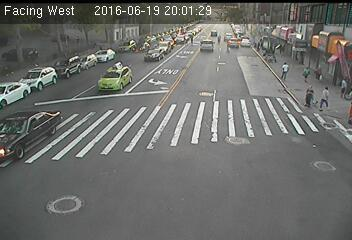neg: (233, 145, 253, 171), (312, 154, 331, 180), (91, 107, 110, 132), (182, 132, 200, 157), (44, 109, 61, 132), (288, 161, 305, 184), (224, 192, 241, 214), (210, 63, 226, 85), (53, 195, 69, 217), (78, 47, 94, 68), (41, 58, 56, 79), (182, 51, 197, 71), (243, 61, 258, 80), (241, 117, 255, 136), (151, 97, 165, 116), (111, 66, 124, 84), (92, 178, 105, 195), (125, 155, 138, 171), (153, 47, 165, 63)
pos: (318, 84, 338, 112), (300, 83, 319, 109), (279, 60, 293, 79), (301, 64, 314, 82), (314, 65, 327, 82)
